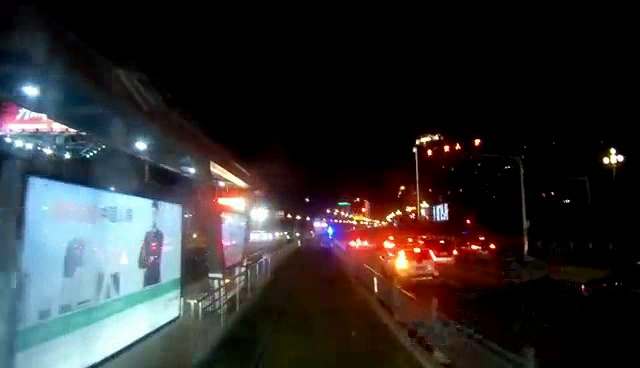car: (388, 245, 438, 278), (466, 233, 500, 260), (426, 236, 458, 262)
